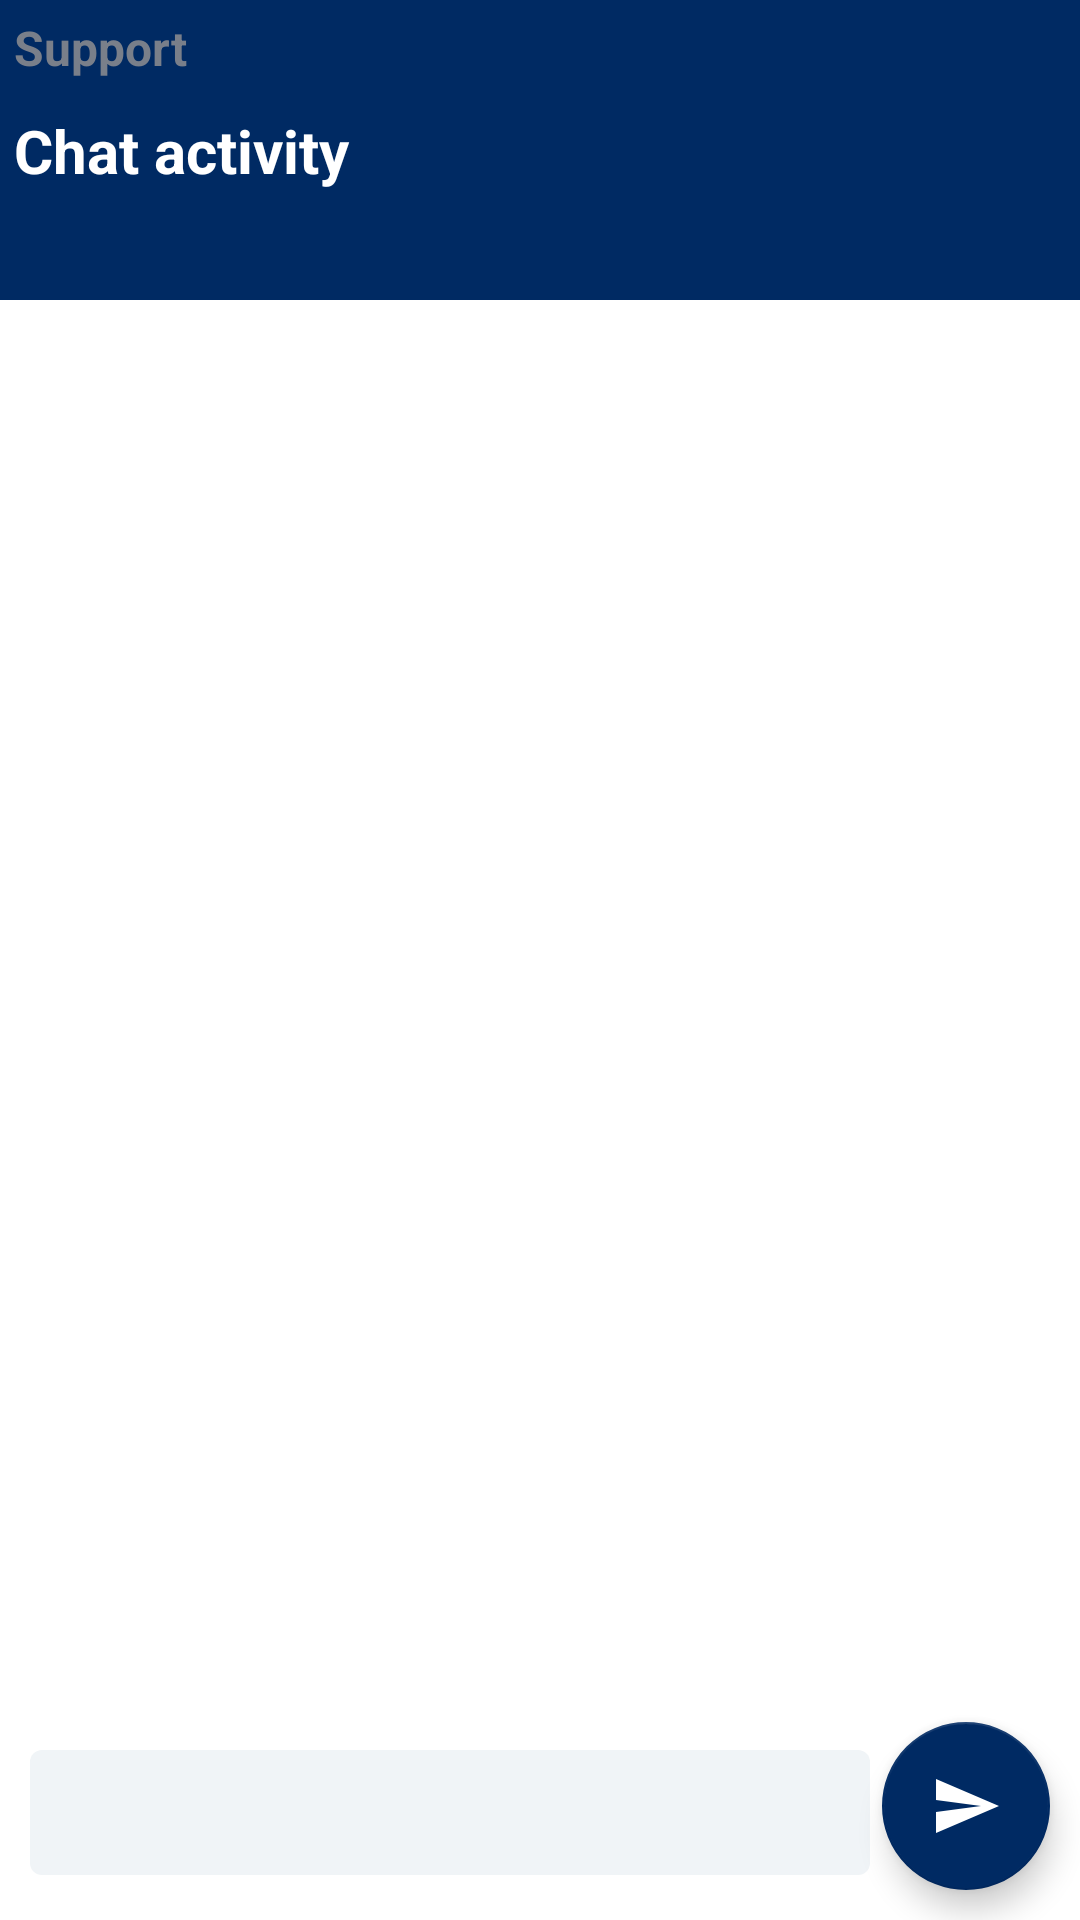

Icon bounding boxes for this 1080px x 1920px phone screenshot, format (x1, y1, x2, y2):
send: (882, 1722, 1050, 1890)
